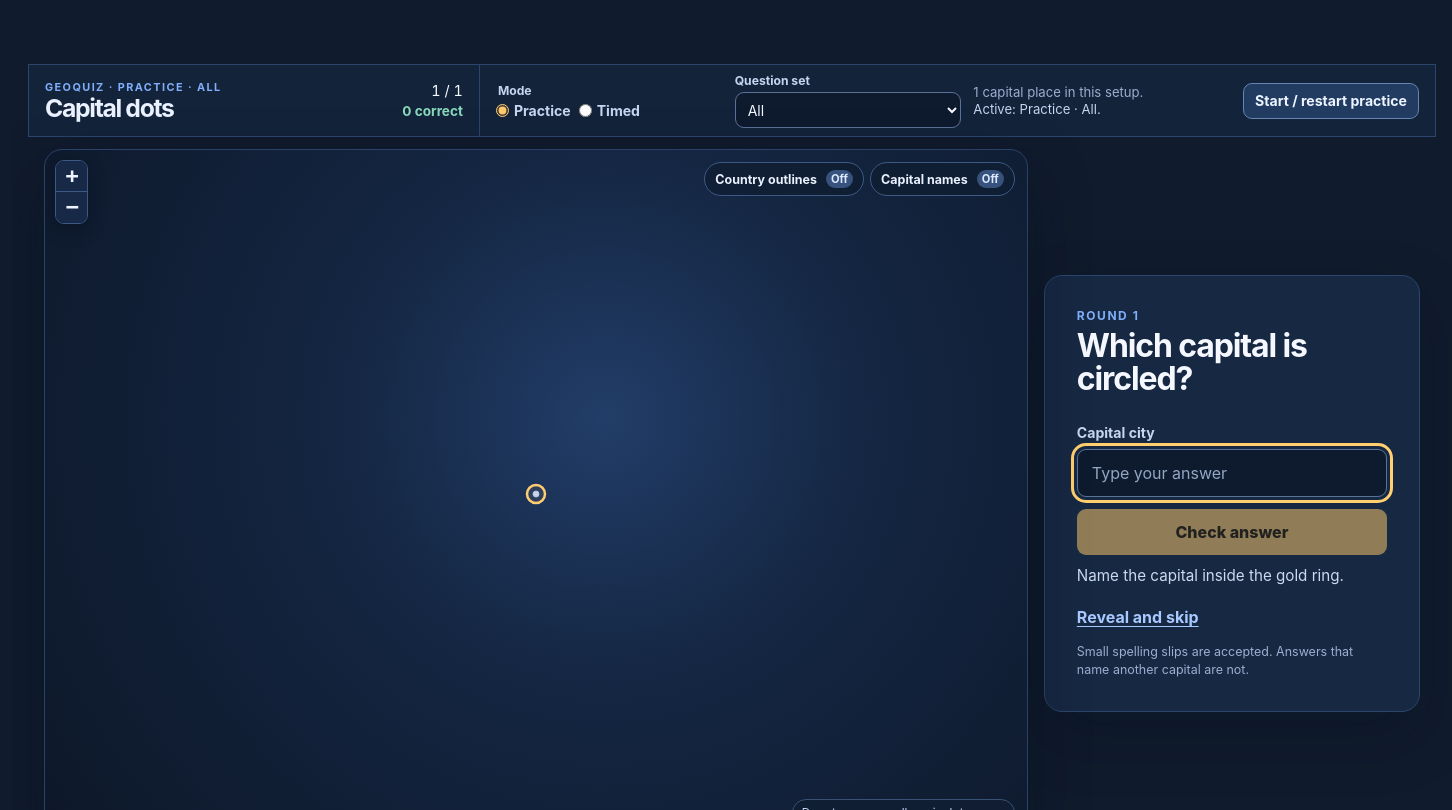
Test: CapitalMapQuiz interaction and focus flow › keeps focus for a wrong retry
Type "Bergen" into the field labelled "Capital city". click: (1232, 473)
box: [1077, 449, 1387, 497]
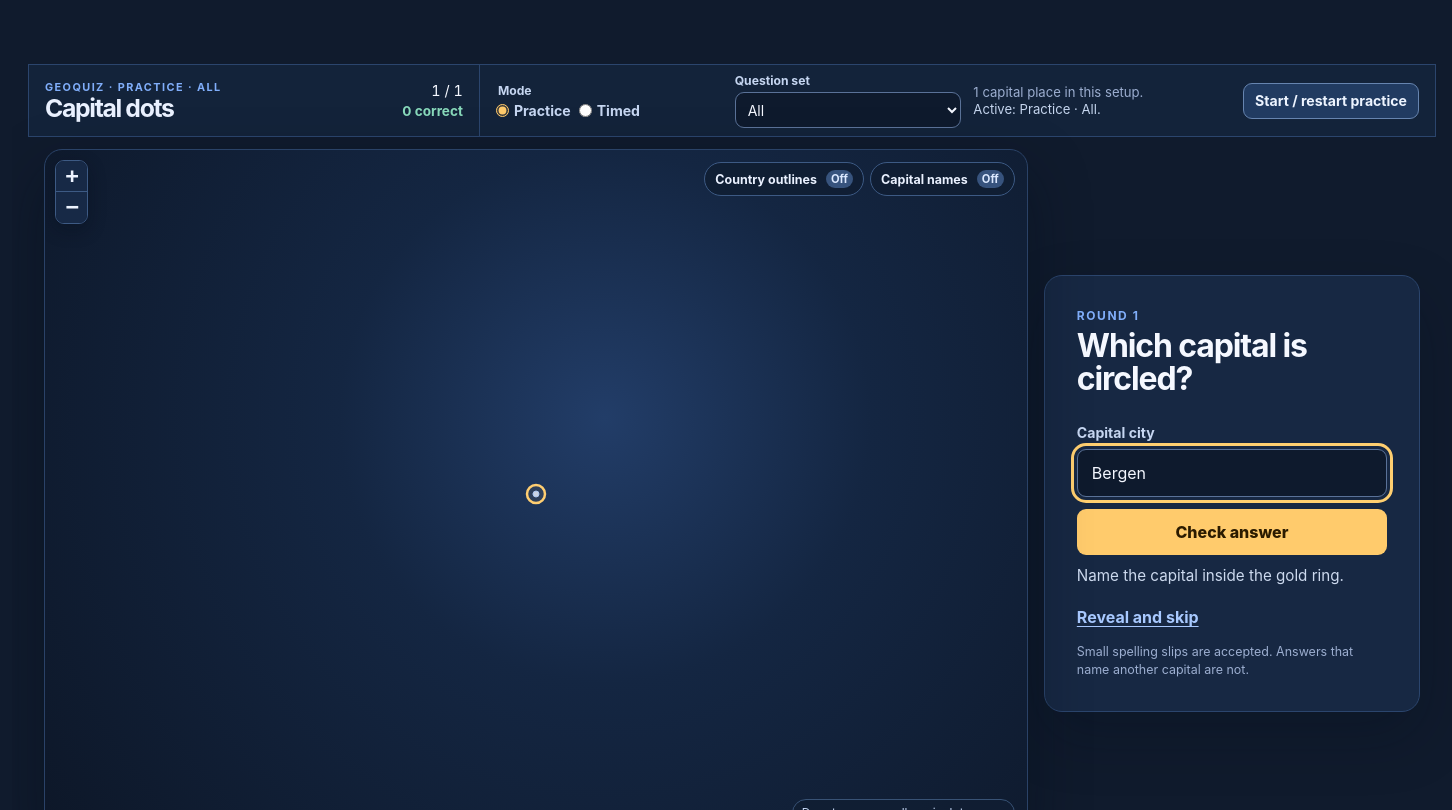
Submit the form "Capital city", box [1077, 424, 1387, 555]
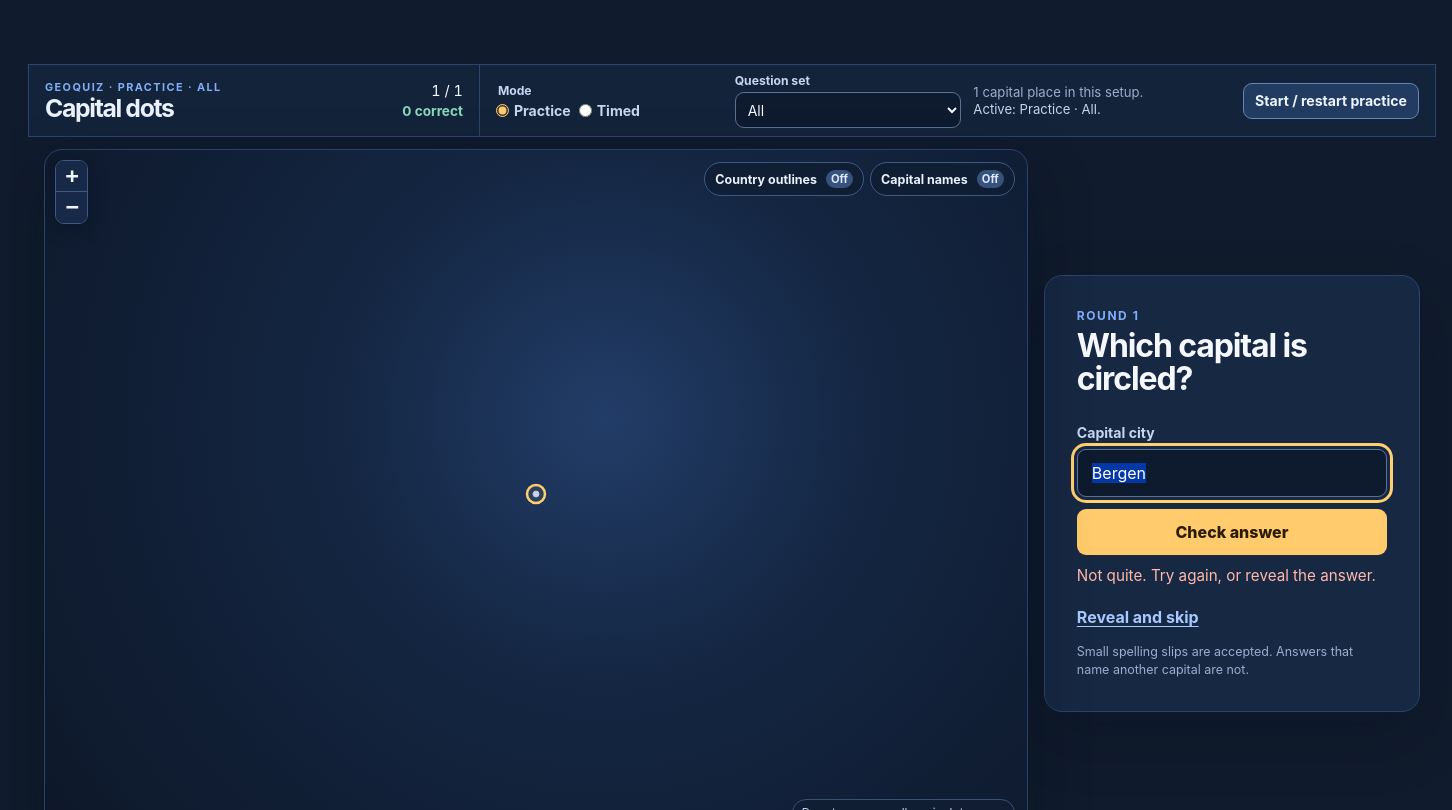
Expected: the text "Not quite. Try again, or reveal the answer." is shown, [1077, 566, 1376, 585]
